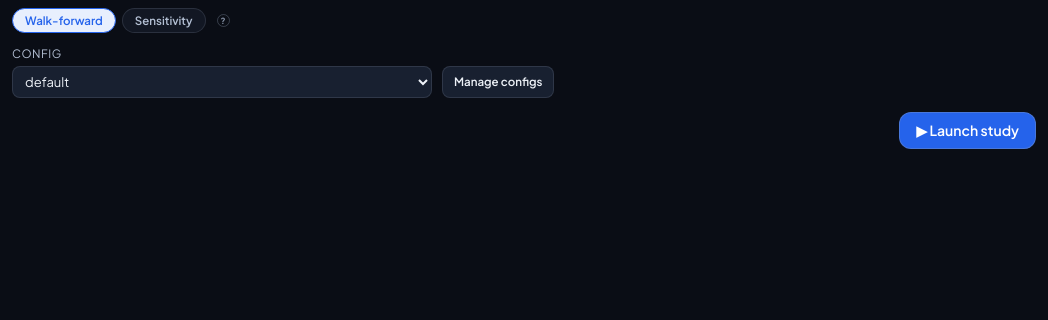
Test: StartStudyCard › renders every registry knob as a toggle pill — risk:reward pre-selected
Click the button with test id "kind-sensitivity" at (164, 21), box [122,8,206,33]
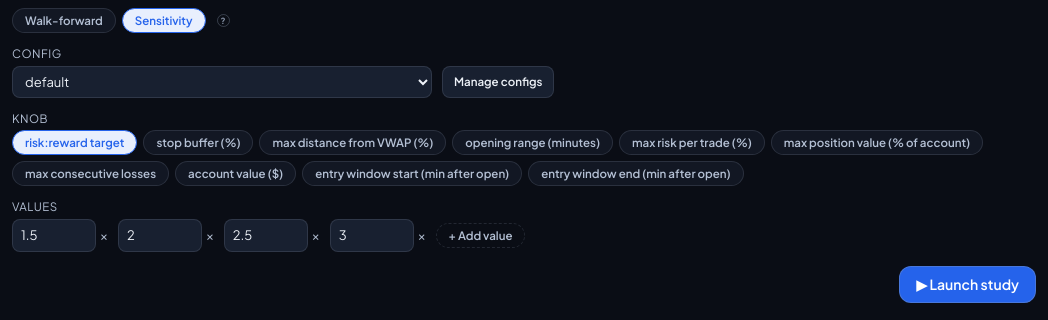
Now the button "account value ($)" is shown, box [175,161,296,186]
Now the button "max risk per trade (%)" is shown, box [619,130,765,155]
Now the button "max position value (% of account)" is shown, box [771,130,983,155]
